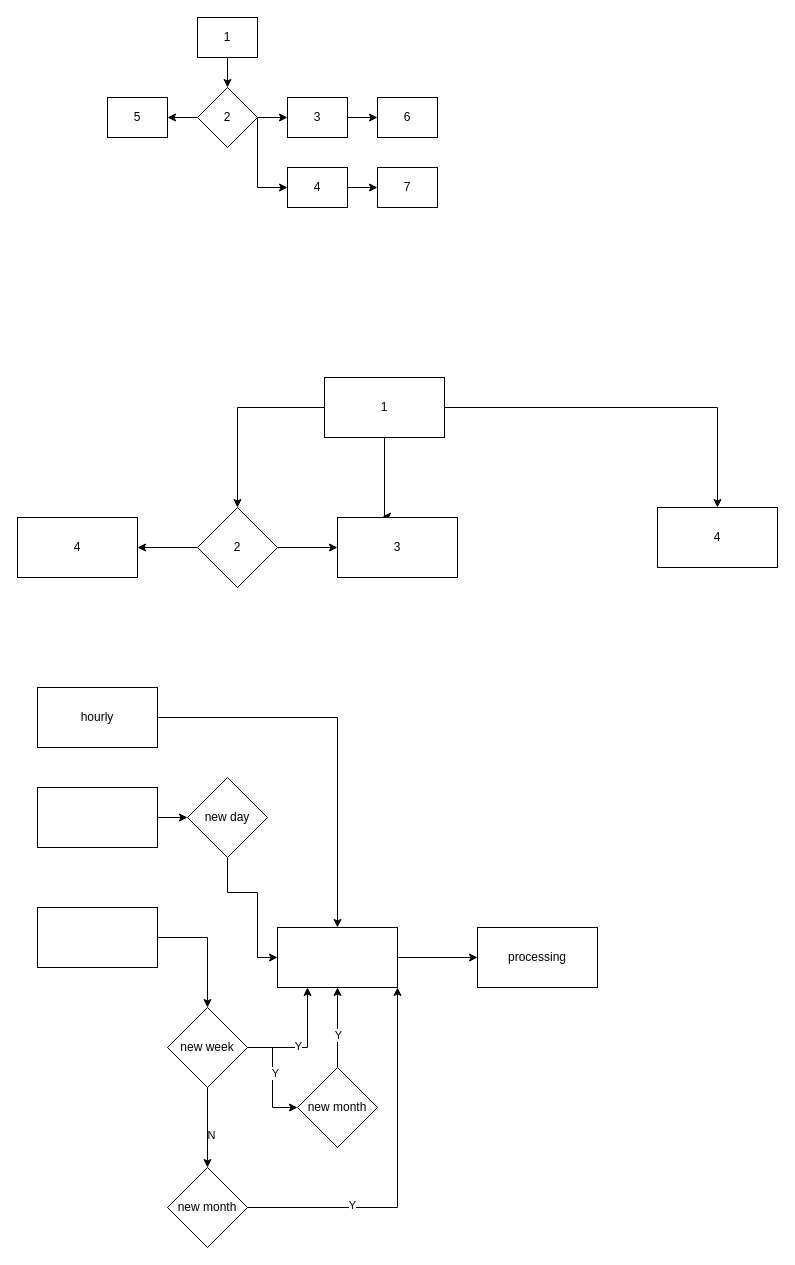
Image size: 795x1265. Some labels were removed from this diagram. Here are the shapes that lost their labels. From the top down, the box of each, then its label:
(36, 786, 158, 848): daily
(36, 906, 158, 968): weekly
(276, 926, 398, 988): Expr
